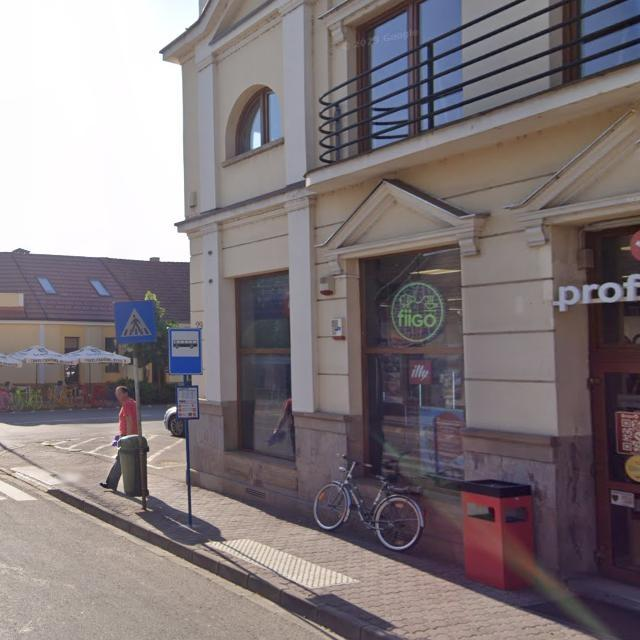info_crosswalk: (114, 300, 157, 343)
